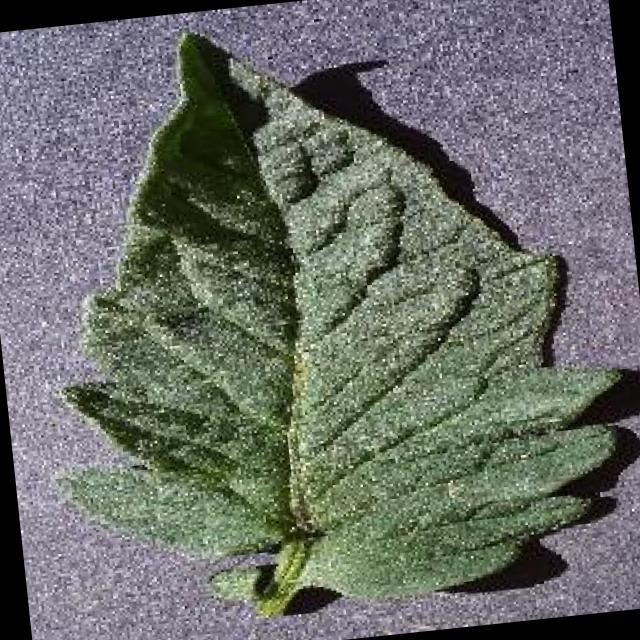Tomato_Healthy: (17, 0, 640, 619)
